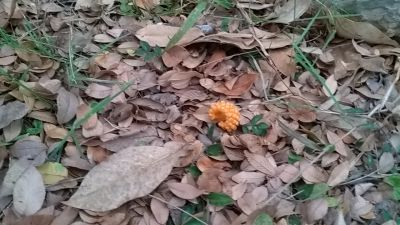eggs: (209, 100, 239, 132)
